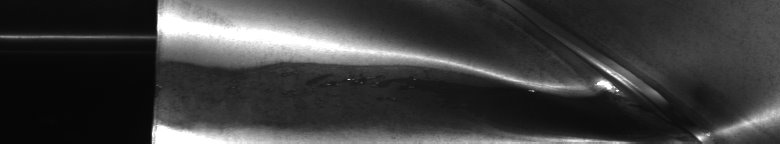ke: (168, 44, 768, 136)
